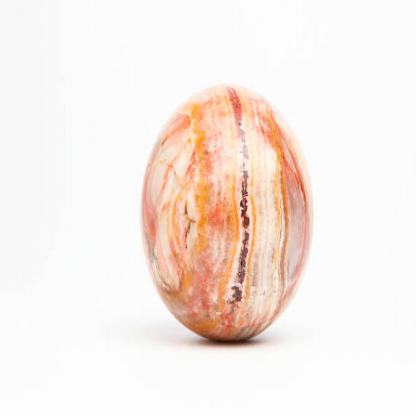Metamorphic_Marble: (142, 69, 321, 351)
